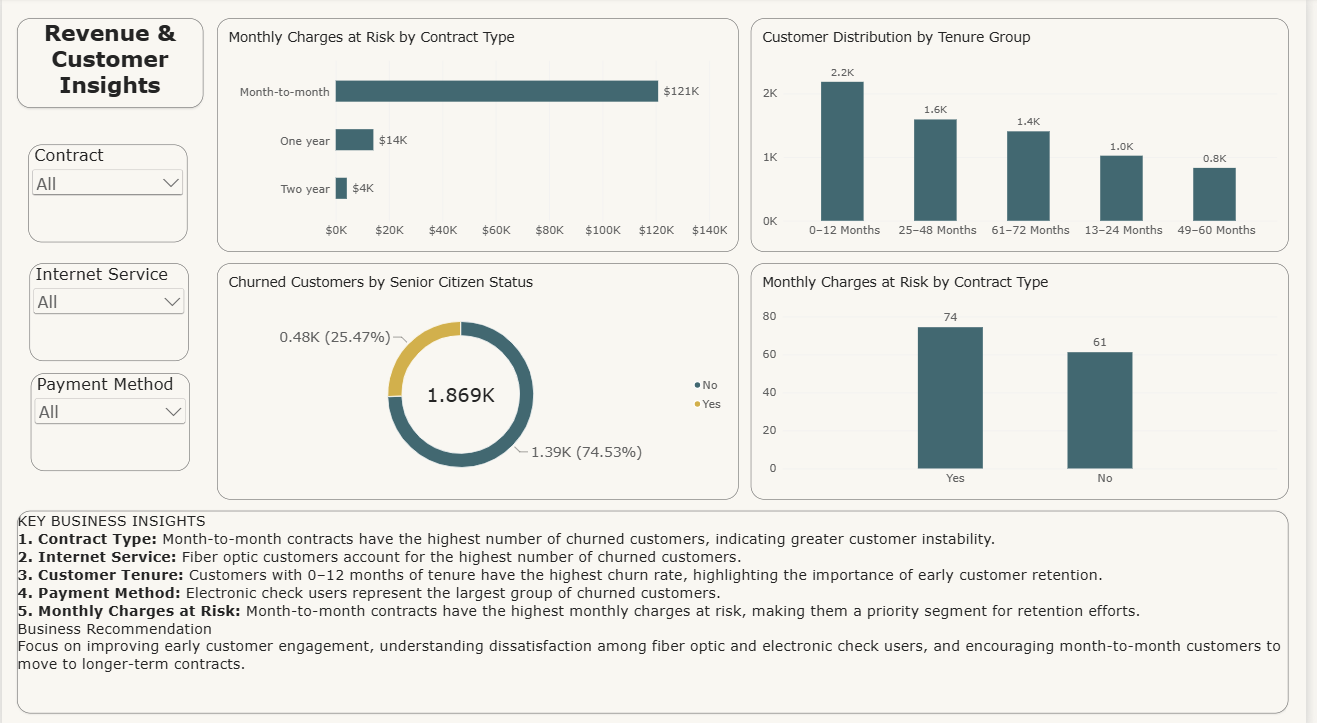

The page's visual inventory and layout, read from the dashboard file:
{"tool":"powerbi","page":{"name":"Page 2","canvas":[1920,1080],"ordinal":1},"visuals":[{"type":"clusteredBarChart","title":"Monthly Charges at Risk by Contract Type","fields":{"Category":["CustomerChurn.Contract"],"Y":["CustomerChurn.Monthly charges at risk"]},"box":[316,32,768,344],"z":0},{"type":"clusteredColumnChart","title":"Customer Distribution by Tenure Group","fields":{"Category":["CustomerChurn.Tenure Group"],"Y":["Count(CustomerChurn.Customer ID)"]},"box":[1102,32,792,344],"z":1000},{"type":"donutChart","title":"Churned Customers by Senior Citizen Status","fields":{"Category":["CustomerChurn.Senior Citizen"],"Y":["Count(CustomerChurn.Customer ID)"]},"box":[316,392,768,348],"z":2000},{"type":"clusteredColumnChart","title":"Monthly Charges at Risk by Contract Type","fields":{"Category":["CustomerChurn.Churn"],"Y":["CustomerChurn.Average Monthly Revenue"]},"box":[1102,392,792,348],"z":3000},{"type":"slicer","fields":{"Values":["CustomerChurn.Contract"]},"box":[38,218,234,144],"z":4000},{"type":"slicer","fields":{"Values":["CustomerChurn.Internet Service"]},"box":[40,392,234,144],"z":5000},{"type":"slicer","fields":{"Values":["CustomerChurn.Payment Method"]},"box":[42,554,234,144],"z":6000},{"type":"textbox","box":[22,32,274,132],"z":8000},{"type":"textbox","box":[22,756,1872,298],"z":9000}]}

Visuals, with their boxes in screenshot pixels (x1, y1, x2, y2), scaled from the page's 1920x1080 canvas onto the 1317x723 screenshot:
"Monthly Charges at Risk by Contract Type" clusteredBarChart: x1=217, y1=21, x2=744, y2=252
"Customer Distribution by Tenure Group" clusteredColumnChart: x1=756, y1=21, x2=1299, y2=252
"Churned Customers by Senior Citizen Status" donutChart: x1=217, y1=262, x2=744, y2=495
"Monthly Charges at Risk by Contract Type" clusteredColumnChart: x1=756, y1=262, x2=1299, y2=495
slicer - CustomerChurn.Contract: x1=26, y1=146, x2=187, y2=242
slicer - CustomerChurn.Internet Service: x1=27, y1=262, x2=188, y2=359
slicer - CustomerChurn.Payment Method: x1=29, y1=371, x2=189, y2=467
textbox: x1=15, y1=21, x2=203, y2=110
textbox: x1=15, y1=506, x2=1299, y2=706
